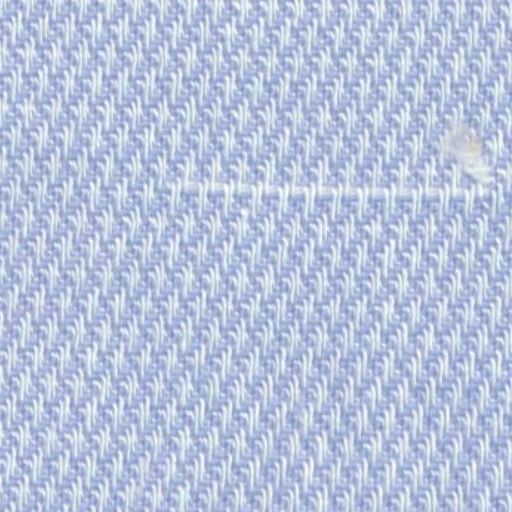DaiSha: (168, 152, 493, 227)
